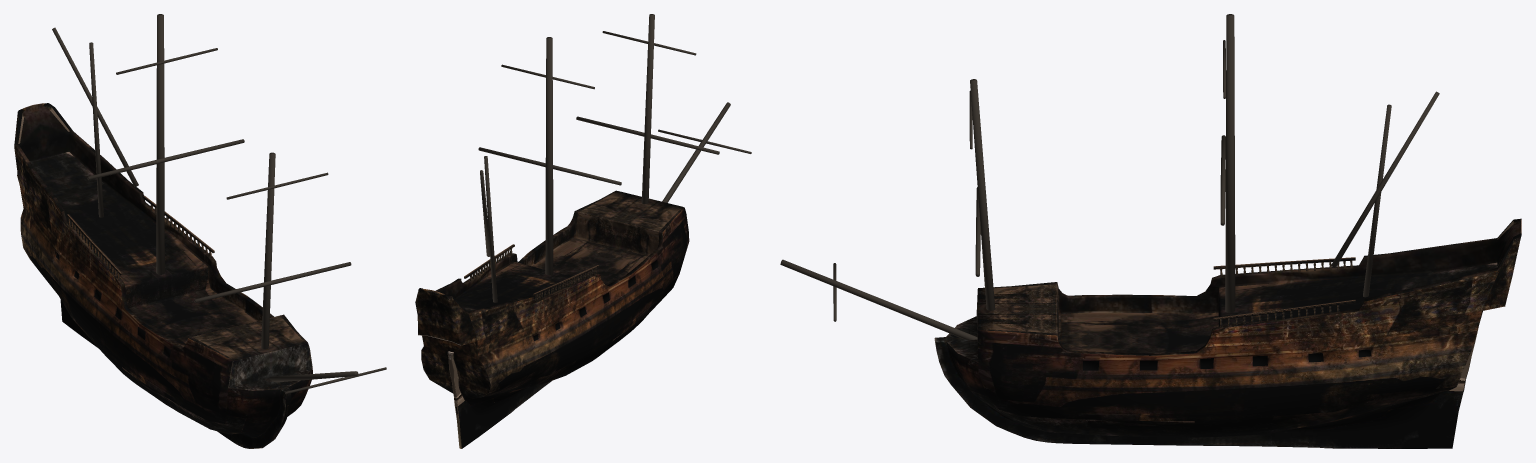
Rendered from pirateship.glb.
The picture shows the model from 3 angles, left to right: view 1: azimuth 30°, elevation 25°; view 2: azimuth 150°, elevation 25°; view 3: azimuth 270°, elevation 25°; orthographic projection. The views are drawn at different scales.
Visible parts, largest first — view 1: Plane, Cylinder.001, Cylinder, Cylinder.003, Cylinder.004, Cylinder.006, Cylinder.002; view 2: Plane, Cylinder.001, Cylinder, Cylinder.002, Cylinder.006, Cylinder.004, Cylinder.003; view 3: Plane, Cylinder.001, Cylinder, Cylinder.002, Cylinder.003.
Boxes of the visible parts, box(x1,y1,x2,y2) form: Plane: box(14, 103, 312, 448); Cylinder.001: box(89, 42, 275, 349); Cylinder: box(156, 14, 164, 274); Cylinder.003: box(52, 27, 138, 187); Cylinder.004: box(87, 139, 244, 180); Cylinder.006: box(194, 262, 351, 302); Cylinder.002: box(269, 371, 358, 382); Plane: box(415, 190, 689, 448); Cylinder.001: box(484, 14, 654, 302); Cylinder: box(545, 37, 553, 275); Cylinder.002: box(662, 102, 730, 202); Cylinder.006: box(576, 116, 719, 154); Cylinder.004: box(478, 147, 621, 185); Cylinder.003: box(480, 170, 490, 256); Plane: box(934, 218, 1521, 448); Cylinder.001: box(970, 79, 1391, 310); Cylinder: box(1225, 14, 1235, 312); Cylinder.002: box(780, 259, 977, 339); Cylinder.003: box(1331, 91, 1439, 268).
Size of the model in its own units: 8.45 by 19.64 by 30.51.
3 materials, 1 textured.
